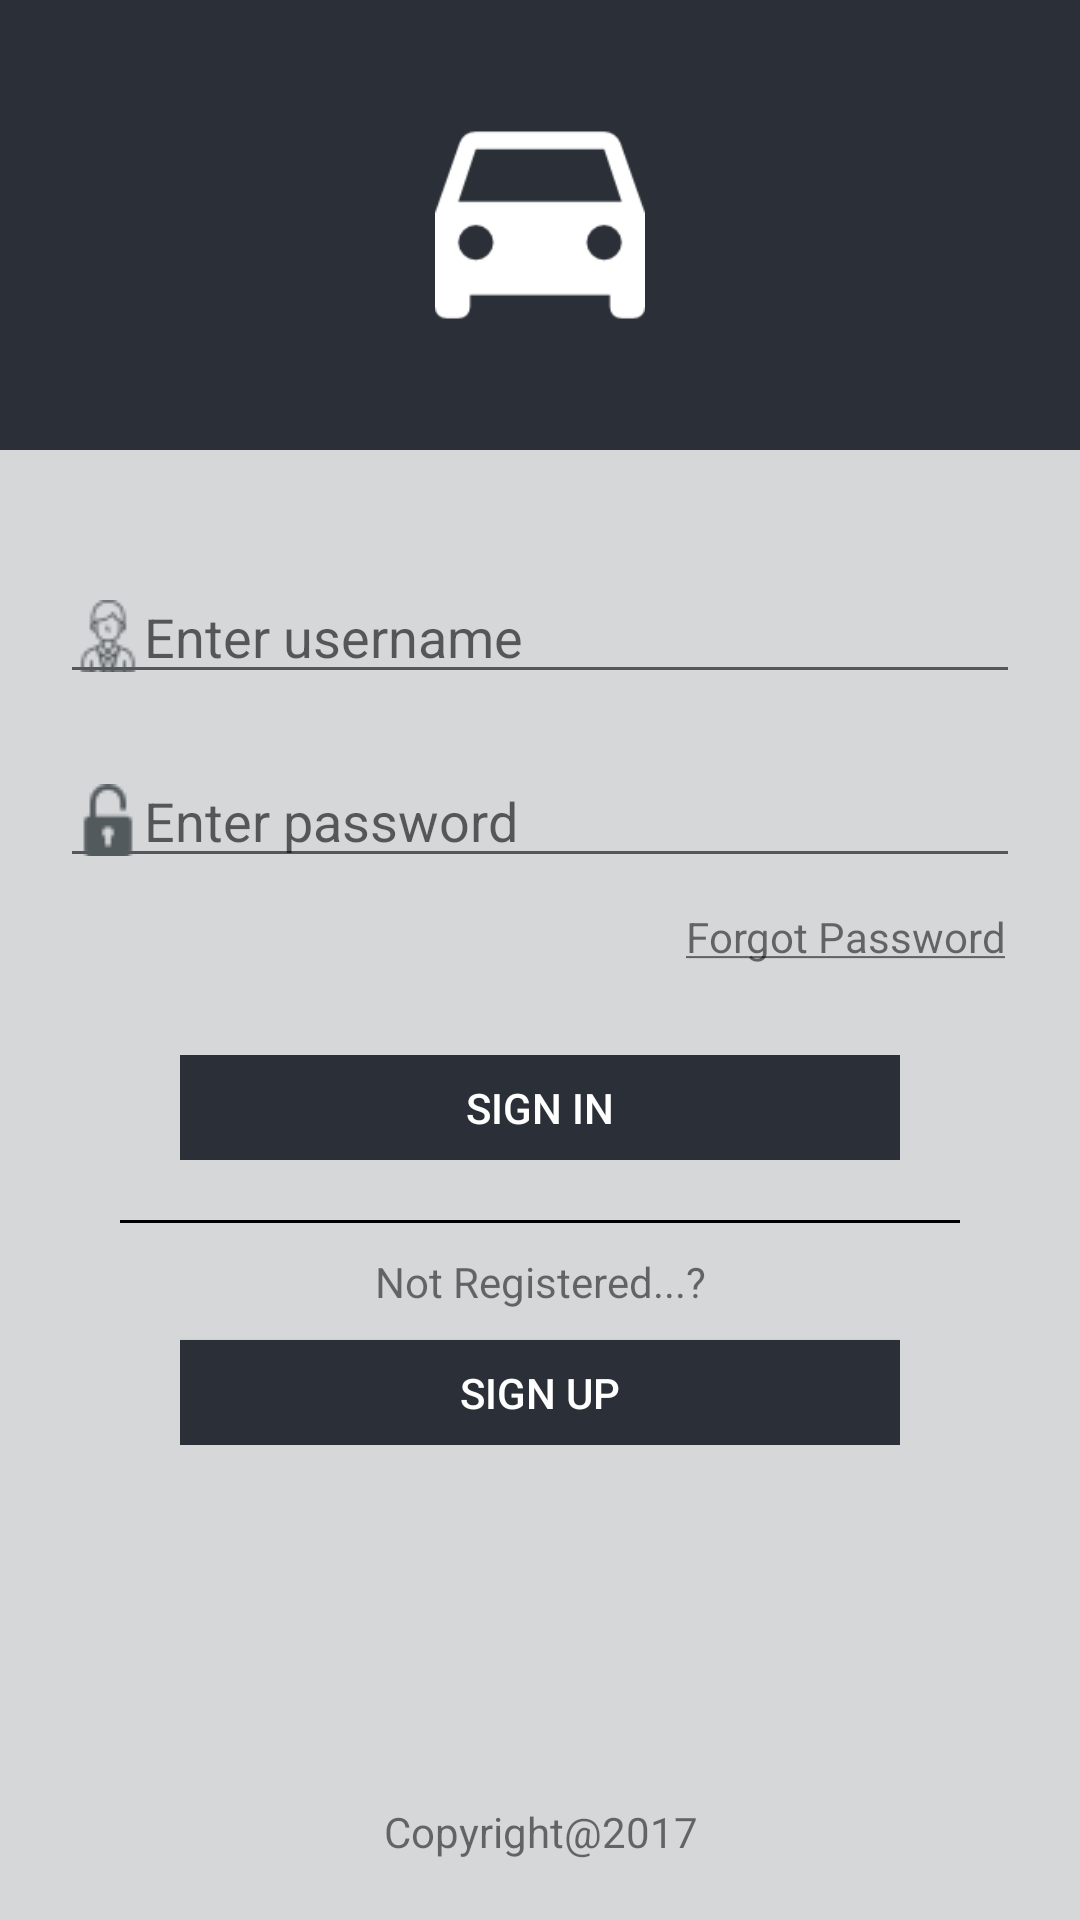

Point at icon controls on the screen. Image size 1080 × 1920, points as (x=x, y=y).
travel: (x=540, y=225)
